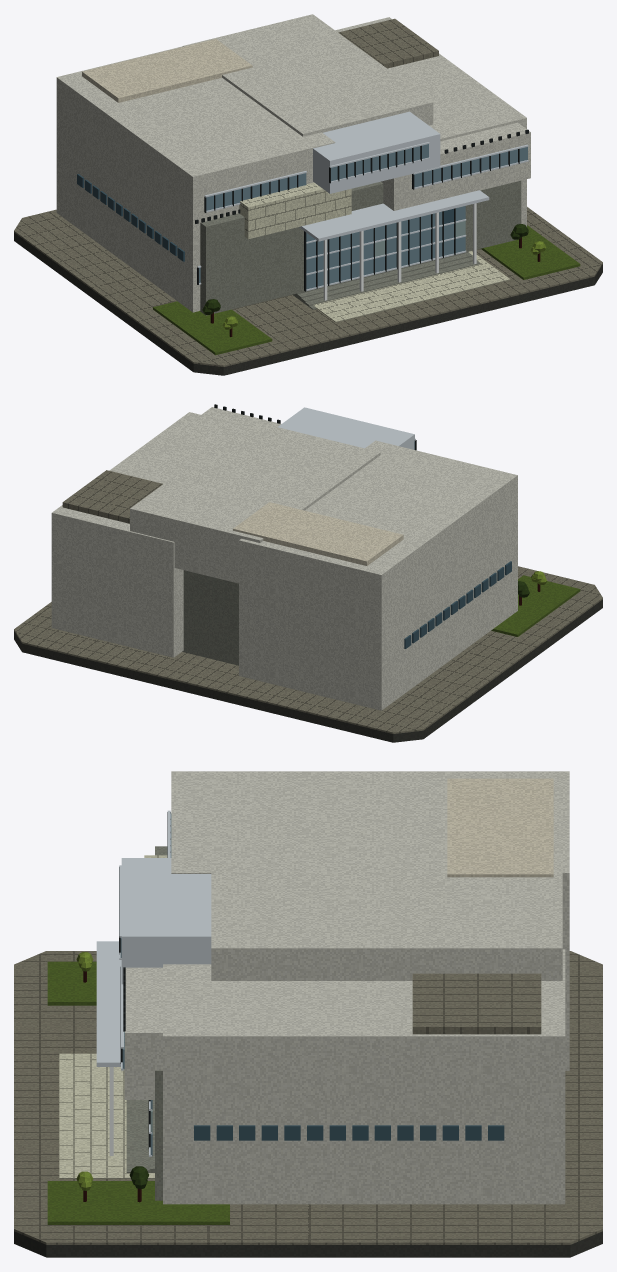
Rendered from china-science-museum.glb.
The picture shows the model from 3 angles, top to bottom: view 1: azimuth 30°, elevation 25°; view 2: azimuth 150°, elevation 25°; view 3: azimuth 270°, elevation 25°; orthographic projection. The views are drawn at different scales.
Visible parts, largest first — view 1: 中国科学技术馆; view 2: 中国科学技术馆; view 3: 中国科学技术馆.
Part boxes in pixels (x1,y1,x2,y2): 中国科学技术馆: (14,14,602,375); 中国科学技术馆: (14,404,602,742); 中国科学技术馆: (14,771,602,1257).
Size of the model in its own units: 10.9 by 4.03 by 9.3.
17 materials, 12 textured.
